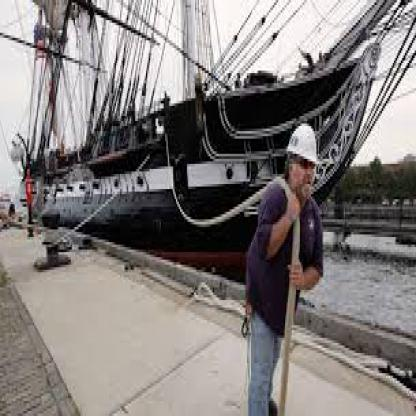Constitution: (0, 23, 415, 275)
